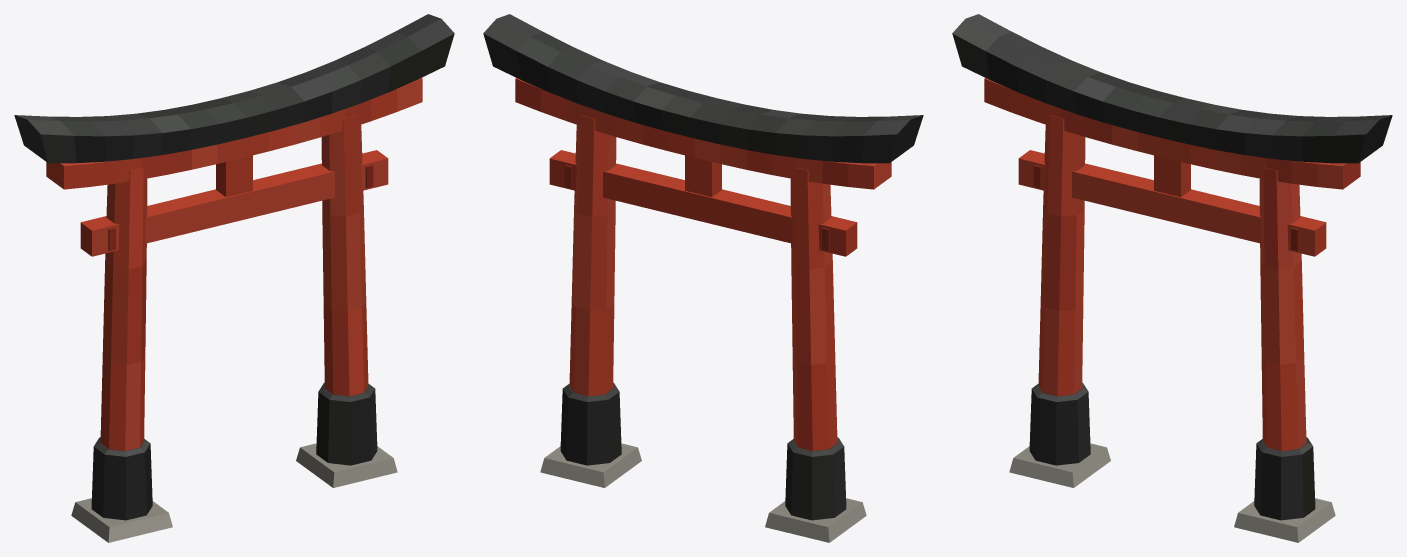
File: zen_torii.glb
3 views of the same model, side by side, from view 1: azimuth 30°, elevation 25°; view 2: azimuth 150°, elevation 25°; view 3: azimuth 330°, elevation 25° (orthographic).
Parts seen in each view (by area): view 1: zen_torii; view 2: zen_torii; view 3: zen_torii.
Part boxes in pixels (bbox=[...]): zen_torii: bbox=[14, 14, 454, 542]; zen_torii: bbox=[483, 14, 923, 542]; zen_torii: bbox=[952, 14, 1392, 542].
Size of the model in its own units: 8.66 by 8.49 by 1.35.
